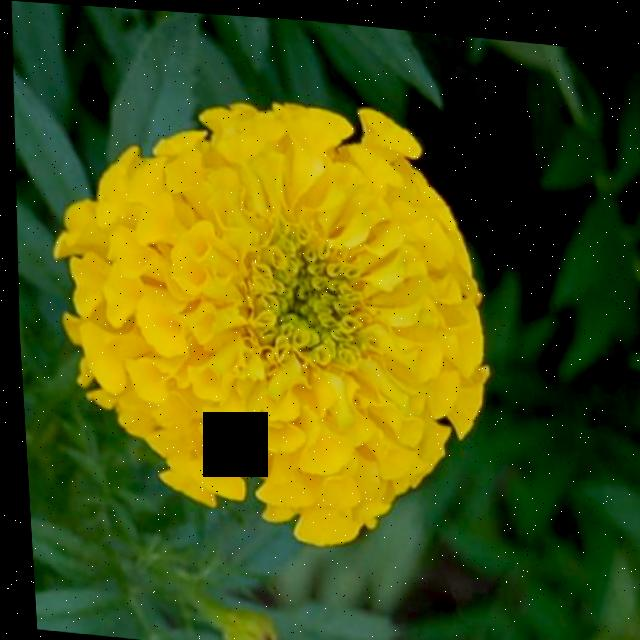marigold: (30, 72, 530, 545)
